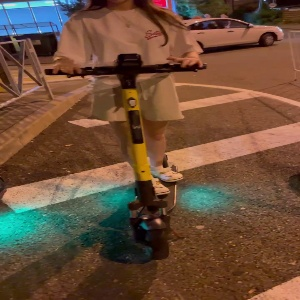human on a scooter: (44, 1, 209, 262)
